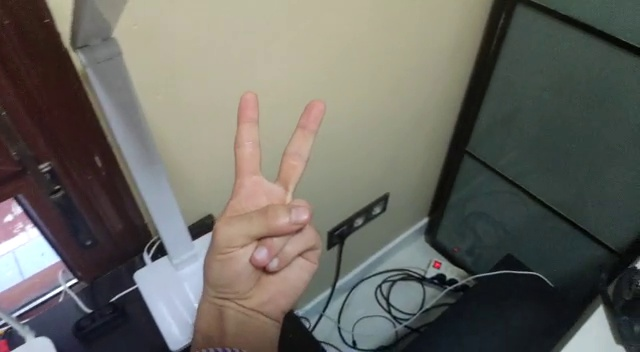Peace: (201, 84, 331, 310)
